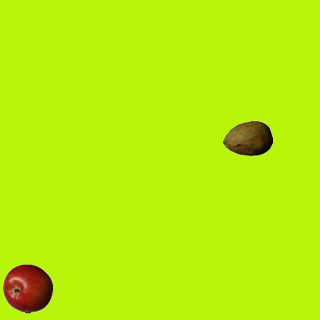Apple Braeburn: (2, 263, 52, 313)
Papaya: (222, 113, 272, 163)
